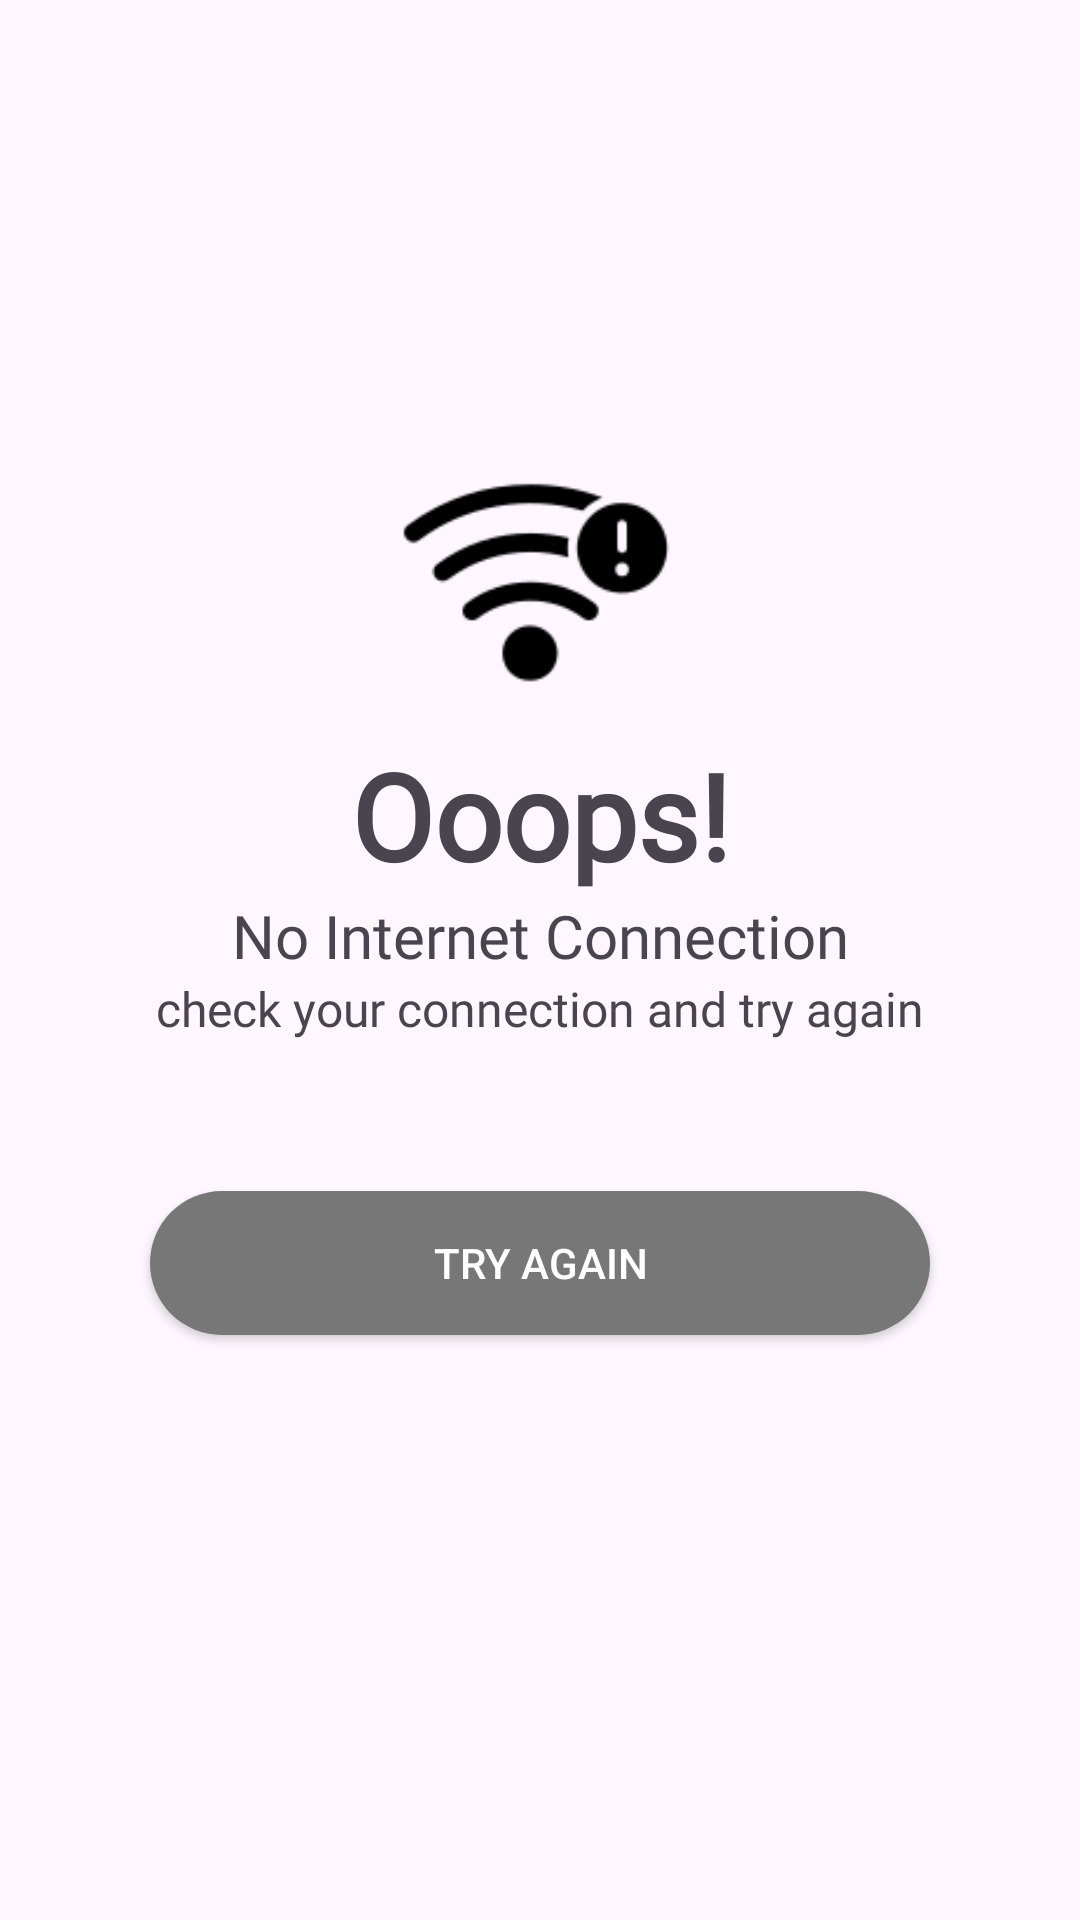

Icons on this 1080px x 1920px Android screen, each with its box as (x1, y1, x2, y2):
no wifi: (403, 483, 669, 682)
